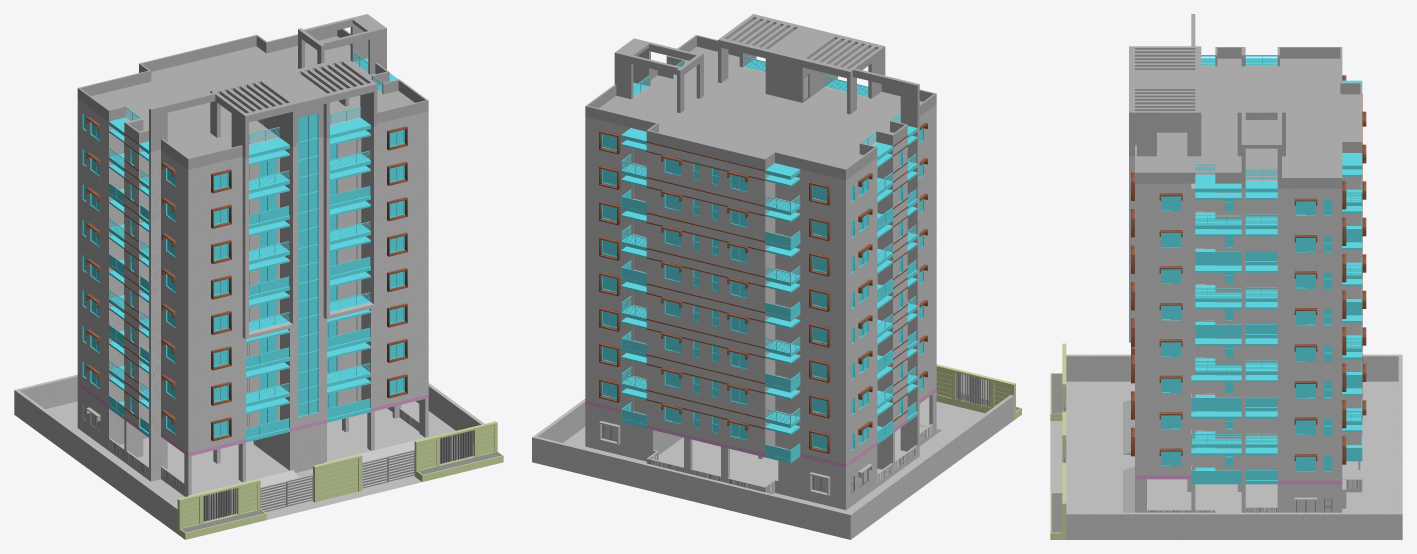
File: Apartment Building_17_blend.obj
3 views of the same model, side by side, from view 1: azimuth 30°, elevation 25°; view 2: azimuth 150°, elevation 25°; view 3: azimuth 270°, elevation 25° (orthographic). The views are drawn at different scales.
Visible parts, largest first — view 1: AB17_OBJ_03.001_AB17_OBJ_03.002; view 2: AB17_OBJ_03.001_AB17_OBJ_03.002; view 3: AB17_OBJ_03.001_AB17_OBJ_03.002.
Part boxes in pixels (bbox=[...]): AB17_OBJ_03.001_AB17_OBJ_03.002: bbox=[14, 14, 503, 539]; AB17_OBJ_03.001_AB17_OBJ_03.002: bbox=[532, 14, 1021, 539]; AB17_OBJ_03.001_AB17_OBJ_03.002: bbox=[1050, 14, 1402, 539].
Size of the model in its own units: 113 by 126 by 105.
9 materials, 4 textured.
